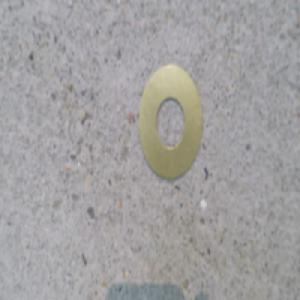Washer: (135, 60, 202, 181)
